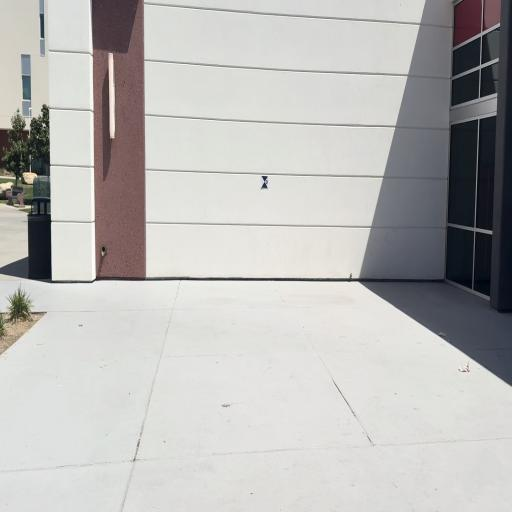target0: (261, 176, 268, 189)
